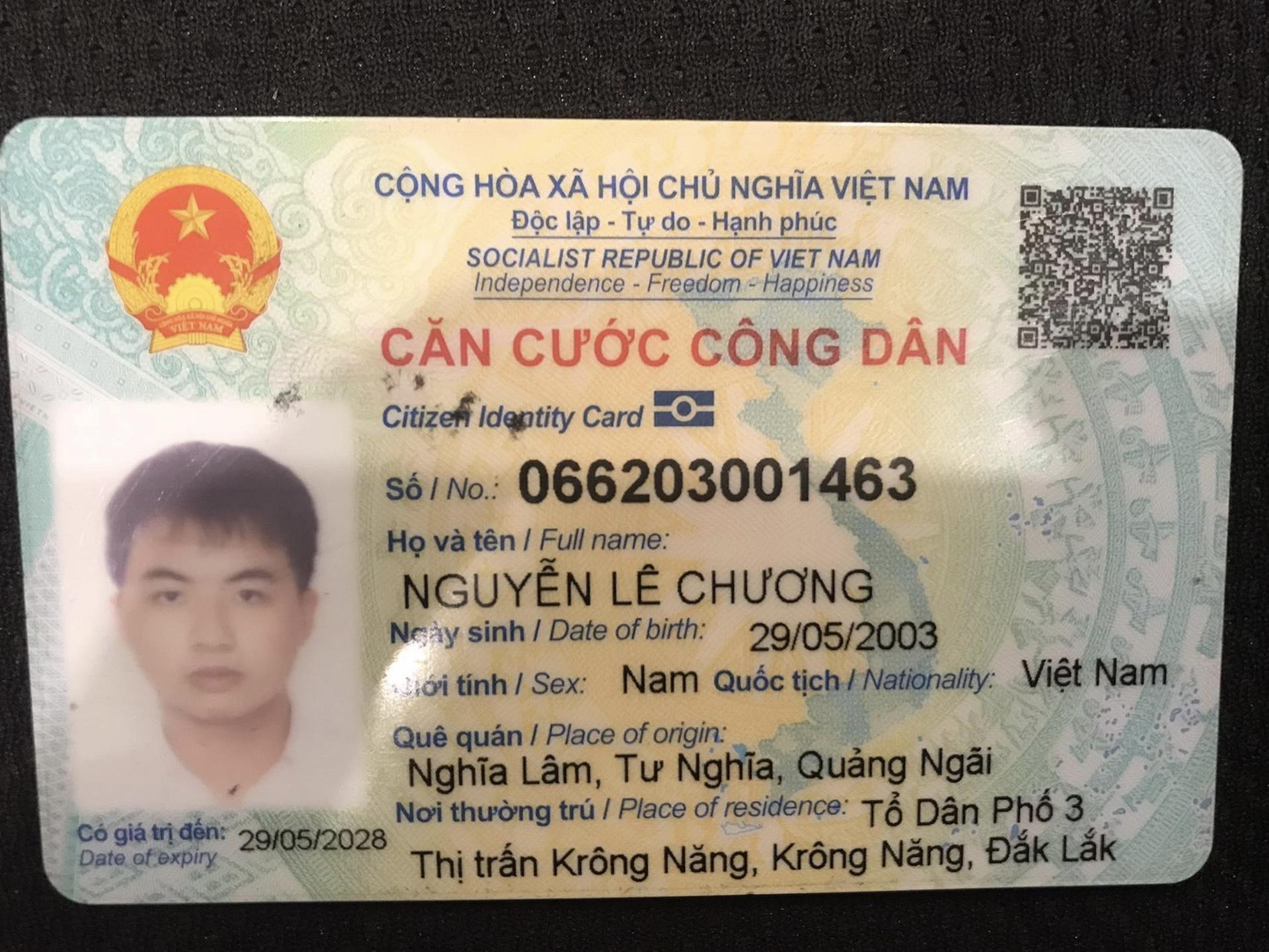ID: (503, 442, 937, 519)
birth: (737, 612, 949, 664)
name: (385, 555, 900, 616)
place: (386, 740, 1029, 793)
residence: (403, 824, 1130, 887), (849, 787, 1099, 831)
